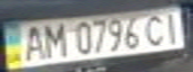0: (69, 18, 93, 55)
6: (121, 15, 148, 49)
7: (90, 16, 109, 53)
9: (106, 16, 127, 52)
A: (18, 22, 48, 61)
C: (139, 11, 169, 46)
I: (157, 10, 184, 44)
M: (36, 20, 69, 58)
